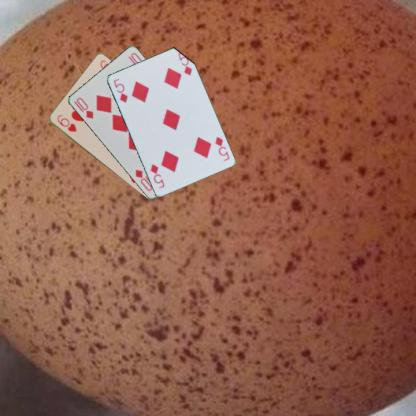10d: (74, 94, 94, 119)
5d: (212, 134, 231, 162), (111, 76, 129, 104)
6h: (54, 112, 78, 134)
